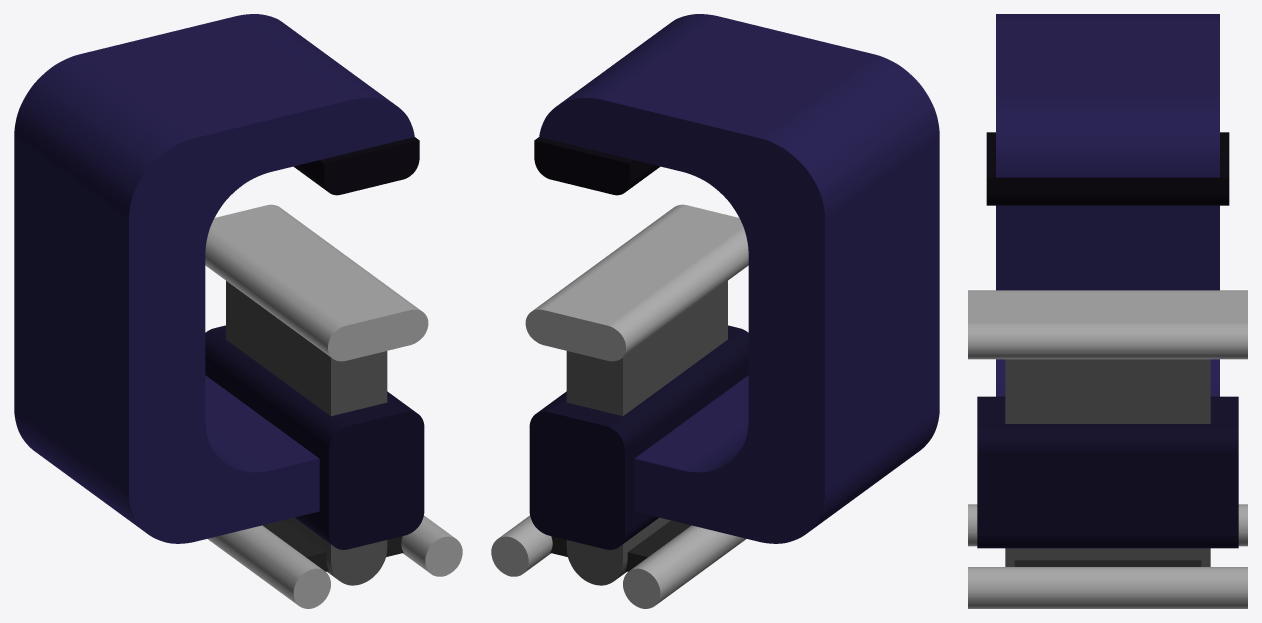
3 views of the same model, side by side, from view 1: azimuth 30°, elevation 25°; view 2: azimuth 150°, elevation 25°; view 3: azimuth 270°, elevation 25° (orthographic). The views are drawn at different scales.
Parts seen in each view (by area): view 1: U+1F5DC_layer02_obj00, U+1F5DC_layer05_obj00, U+1F5DC_layer04_obj00, U+1F5DC_layer01_obj00, U+1F5DC_layer03_obj00, U+1F5DC_layer00_obj00; view 2: U+1F5DC_layer02_obj00, U+1F5DC_layer05_obj00, U+1F5DC_layer04_obj00, U+1F5DC_layer01_obj00, U+1F5DC_layer03_obj00, U+1F5DC_layer00_obj00; view 3: U+1F5DC_layer02_obj00, U+1F5DC_layer04_obj00, U+1F5DC_layer05_obj00, U+1F5DC_layer01_obj00, U+1F5DC_layer03_obj00, U+1F5DC_layer00_obj00.
Part boxes in pixels (x1=…): U+1F5DC_layer02_obj00: x1=14, y1=14, x2=414, y2=543; U+1F5DC_layer05_obj00: x1=205, y1=204, x2=462, y2=608; U+1F5DC_layer04_obj00: x1=205, y1=325, x2=424, y2=549; U+1F5DC_layer01_obj00: x1=226, y1=281, x2=387, y2=585; U+1F5DC_layer03_obj00: x1=293, y1=137, x2=419, y2=195; U+1F5DC_layer00_obj00: x1=263, y1=520, x2=403, y2=571; U+1F5DC_layer02_obj00: x1=539, y1=14, x2=939, y2=543; U+1F5DC_layer05_obj00: x1=491, y1=204, x2=748, y2=608; U+1F5DC_layer04_obj00: x1=529, y1=325, x2=748, y2=549; U+1F5DC_layer01_obj00: x1=566, y1=281, x2=727, y2=585; U+1F5DC_layer03_obj00: x1=534, y1=137, x2=660, y2=195; U+1F5DC_layer00_obj00: x1=550, y1=520, x2=690, y2=571; U+1F5DC_layer02_obj00: x1=996, y1=14, x2=1219, y2=396; U+1F5DC_layer04_obj00: x1=977, y1=396, x2=1238, y2=548; U+1F5DC_layer05_obj00: x1=968, y1=290, x2=1247, y2=608; U+1F5DC_layer01_obj00: x1=1005, y1=359, x2=1210, y2=566; U+1F5DC_layer03_obj00: x1=986, y1=132, x2=1229, y2=205; U+1F5DC_layer00_obj00: x1=1014, y1=560, x2=1201, y2=566.
Bounding box in the file's own units: 0.3864 × 0.5677 × 0.3.
